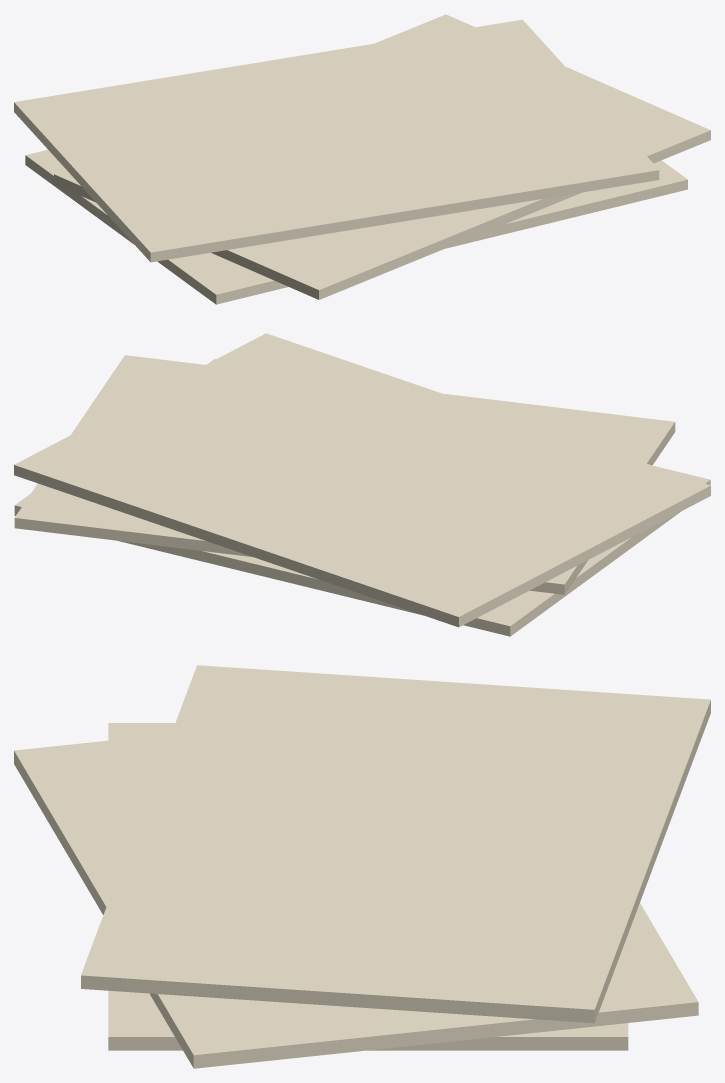
The model's file is Paper.fbx.
3 renders of one model, top to bottom at view 1: azimuth 30°, elevation 25°; view 2: azimuth 150°, elevation 25°; view 3: azimuth 270°, elevation 25°, orthographic. The views are drawn at different scales.
Visible parts, largest first — view 1: paper_sheets; view 2: paper_sheets; view 3: paper_sheets.
Boxes of the visible parts, x1,y1,x2,y2 form: paper_sheets: [14, 14, 710, 304]; paper_sheets: [14, 333, 710, 636]; paper_sheets: [14, 665, 710, 1068].
Size of the model in its own units: 0.1777 by 0.011 by 0.1407.
